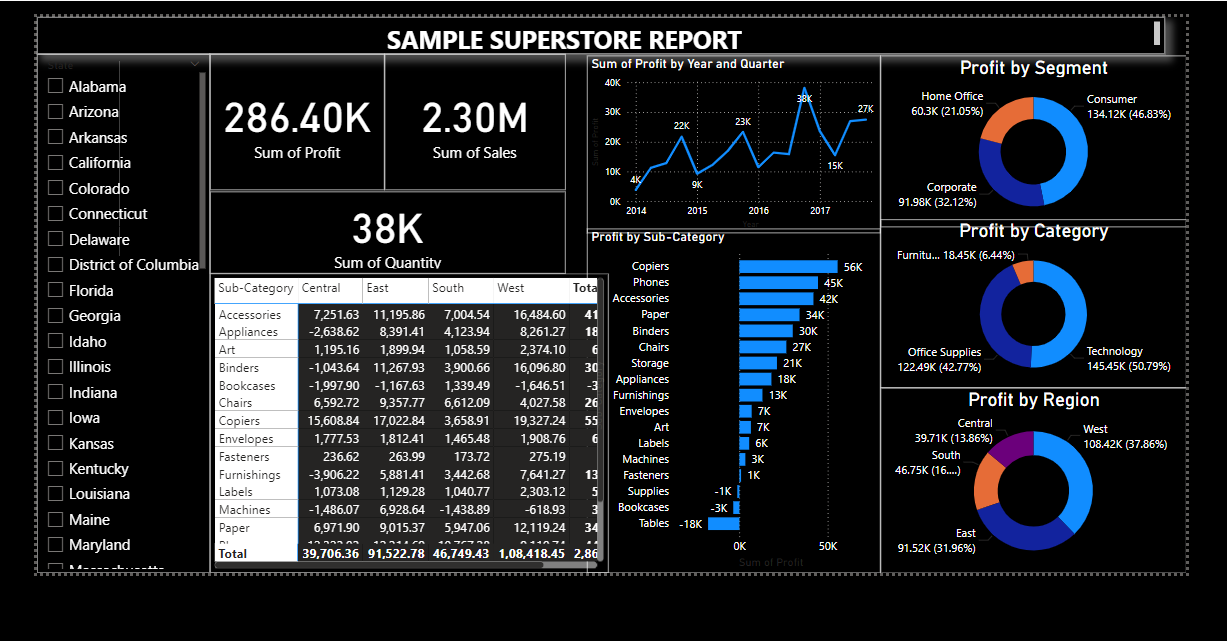

The page's visual inventory and layout, read from the dashboard file:
{"tool":"powerbi","page":{"name":"Page 2","canvas":[1487,720],"ordinal":4},"visuals":[{"type":"textbox","box":[0,0,1460,48],"z":0},{"type":"donutChart","title":"Profit by Region","fields":{"Category":["Orders.Region"],"Y":["Sum(Orders.Profit)"]},"box":[1092,480,396,240],"z":1000},{"type":"donutChart","title":"Profit by Category","fields":{"Category":["Orders.Category"],"Y":["Sum(Orders.Profit)"]},"box":[1092,262,396,218],"z":2000},{"type":"donutChart","title":"Profit by Segment","fields":{"Category":["Orders.Segment"],"Y":["Sum(Orders.Profit)"]},"box":[1092,50,396,222],"z":3000},{"type":"clusteredBarChart","title":"Profit by Sub-Category","fields":{"Category":["Orders.Sub-Category"],"Y":["Sum(Orders.Profit)"]},"box":[712,274,380,446],"z":4000},{"type":"lineChart","fields":{"Category":["Orders.Order Date.Variation.Date Hierarchy.Year","Orders.Order Date.Variation.Date Hierarchy.Quarter","Orders.Order Date.Variation.Date Hierarchy.Month","Orders.Order Date.Variation.Date Hierarchy.Day"],"Y":["Sum(Orders.Profit)"]},"box":[712,50,380,230],"z":5000},{"type":"slicer","fields":{"Values":["Orders.State"]},"box":[0,48,224,672],"z":6000},{"type":"pivotTable","fields":{"Rows":["Orders.Sub-Category"],"Columns":["Orders.Region"],"Values":["Sum(Orders.Profit)"]},"box":[224,332,516,388],"z":7000},{"type":"card","fields":{"Values":["Sum(Orders.Profit)"]},"box":[224,48,226,176],"z":8000},{"type":"card","fields":{"Values":["Sum(Orders.Sales)"]},"box":[450,48,234,176],"z":9000},{"type":"card","fields":{"Values":["Sum(Orders.Quantity)"]},"box":[224,226,460,106],"z":10000}]}

Visuals, with their boxes on the page's 1487x720 design canvas (x1, y1, x2, y2). These are canvas units, not pixel positions in the 1227x641 screenshot, which may show the page scaled, cropped or inside an application window:
textbox: {"left": 0, "top": 0, "right": 1460, "bottom": 48}
"Profit by Region" donutChart: {"left": 1092, "top": 480, "right": 1488, "bottom": 720}
"Profit by Category" donutChart: {"left": 1092, "top": 262, "right": 1488, "bottom": 480}
"Profit by Segment" donutChart: {"left": 1092, "top": 50, "right": 1488, "bottom": 272}
"Profit by Sub-Category" clusteredBarChart: {"left": 712, "top": 274, "right": 1092, "bottom": 720}
lineChart - Orders.Order Date.Variation.Date Hierarchy.Year x Orders.Order Date.Variation.Date Hierarchy.Quarter: {"left": 712, "top": 50, "right": 1092, "bottom": 280}
slicer - Orders.State: {"left": 0, "top": 48, "right": 224, "bottom": 720}
pivotTable - Orders.Sub-Category x Orders.Region: {"left": 224, "top": 332, "right": 740, "bottom": 720}
card - Sum(Orders.Profit): {"left": 224, "top": 48, "right": 450, "bottom": 224}
card - Sum(Orders.Sales): {"left": 450, "top": 48, "right": 684, "bottom": 224}
card - Sum(Orders.Quantity): {"left": 224, "top": 226, "right": 684, "bottom": 332}
